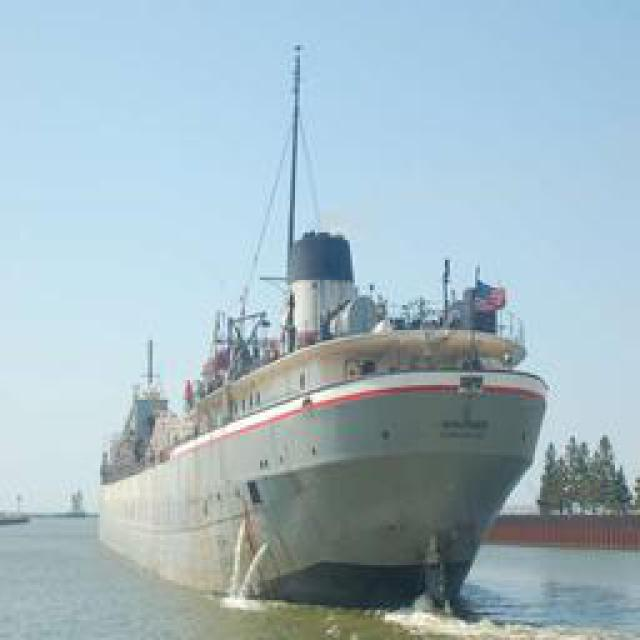Ship: (100, 86, 548, 606)
